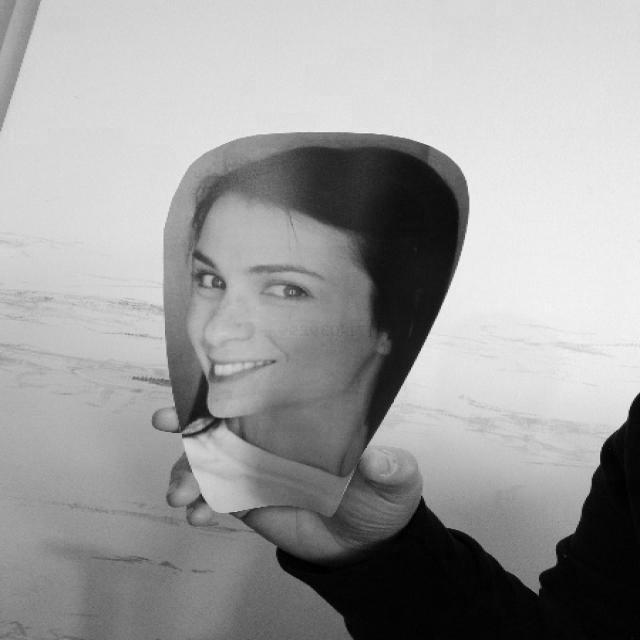fake: (141, 124, 478, 534)
